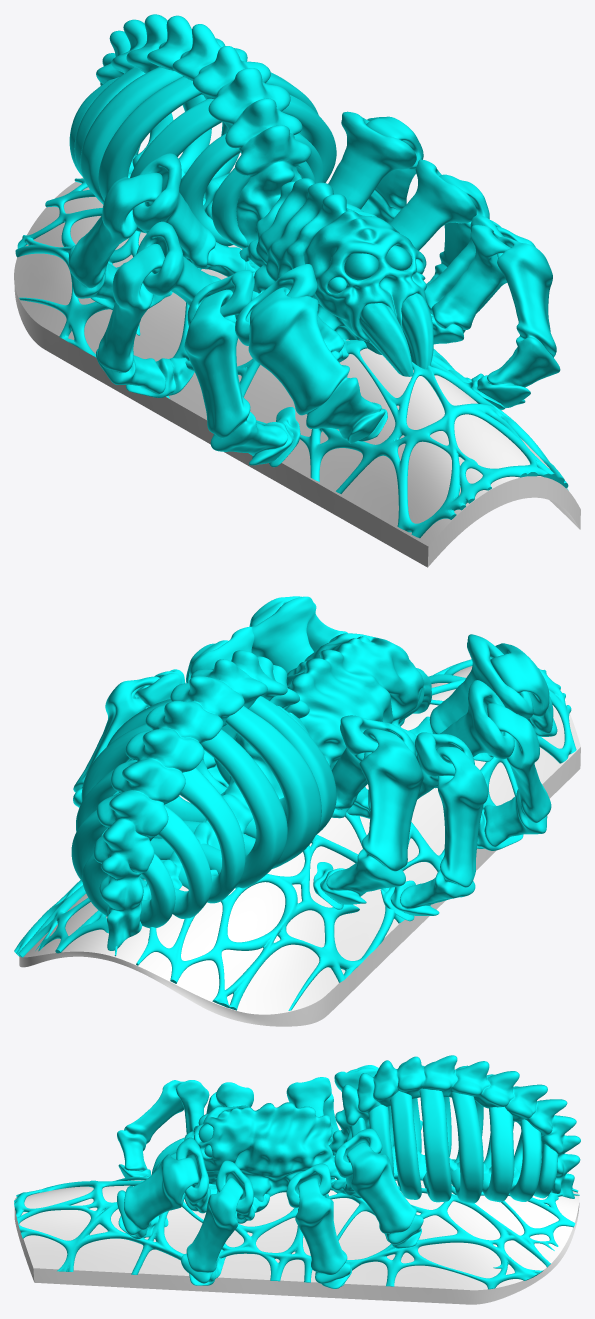
Rendered from crypt-crawler-full.glb.
3 renders of one model, top to bottom at view 1: azimuth 30°, elevation 25°; view 2: azimuth 150°, elevation 25°; view 3: azimuth 270°, elevation 25°, orthographic. The views are drawn at different scales.
Visible parts, largest first — view 1: MW 1.0 1742828 US, object 2; view 2: MW 1.0 1742828 US, object 2; view 3: MW 1.0 1742828 US, object 2.
Part boxes in pixels (left/top/right/bottom): MW 1.0 1742828 US: left=15, top=14, right=568, bottom=538; object 2: left=14, top=177, right=580, bottom=567; MW 1.0 1742828 US: left=14, top=596, right=576, bottom=1010; object 2: left=19, top=666, right=580, bottom=1026; MW 1.0 1742828 US: left=14, top=1055, right=580, bottom=1289; object 2: left=14, top=1178, right=579, bottom=1304.
Bounding box in the file's own units: 0.018 × 0.0139 × 0.0351.
